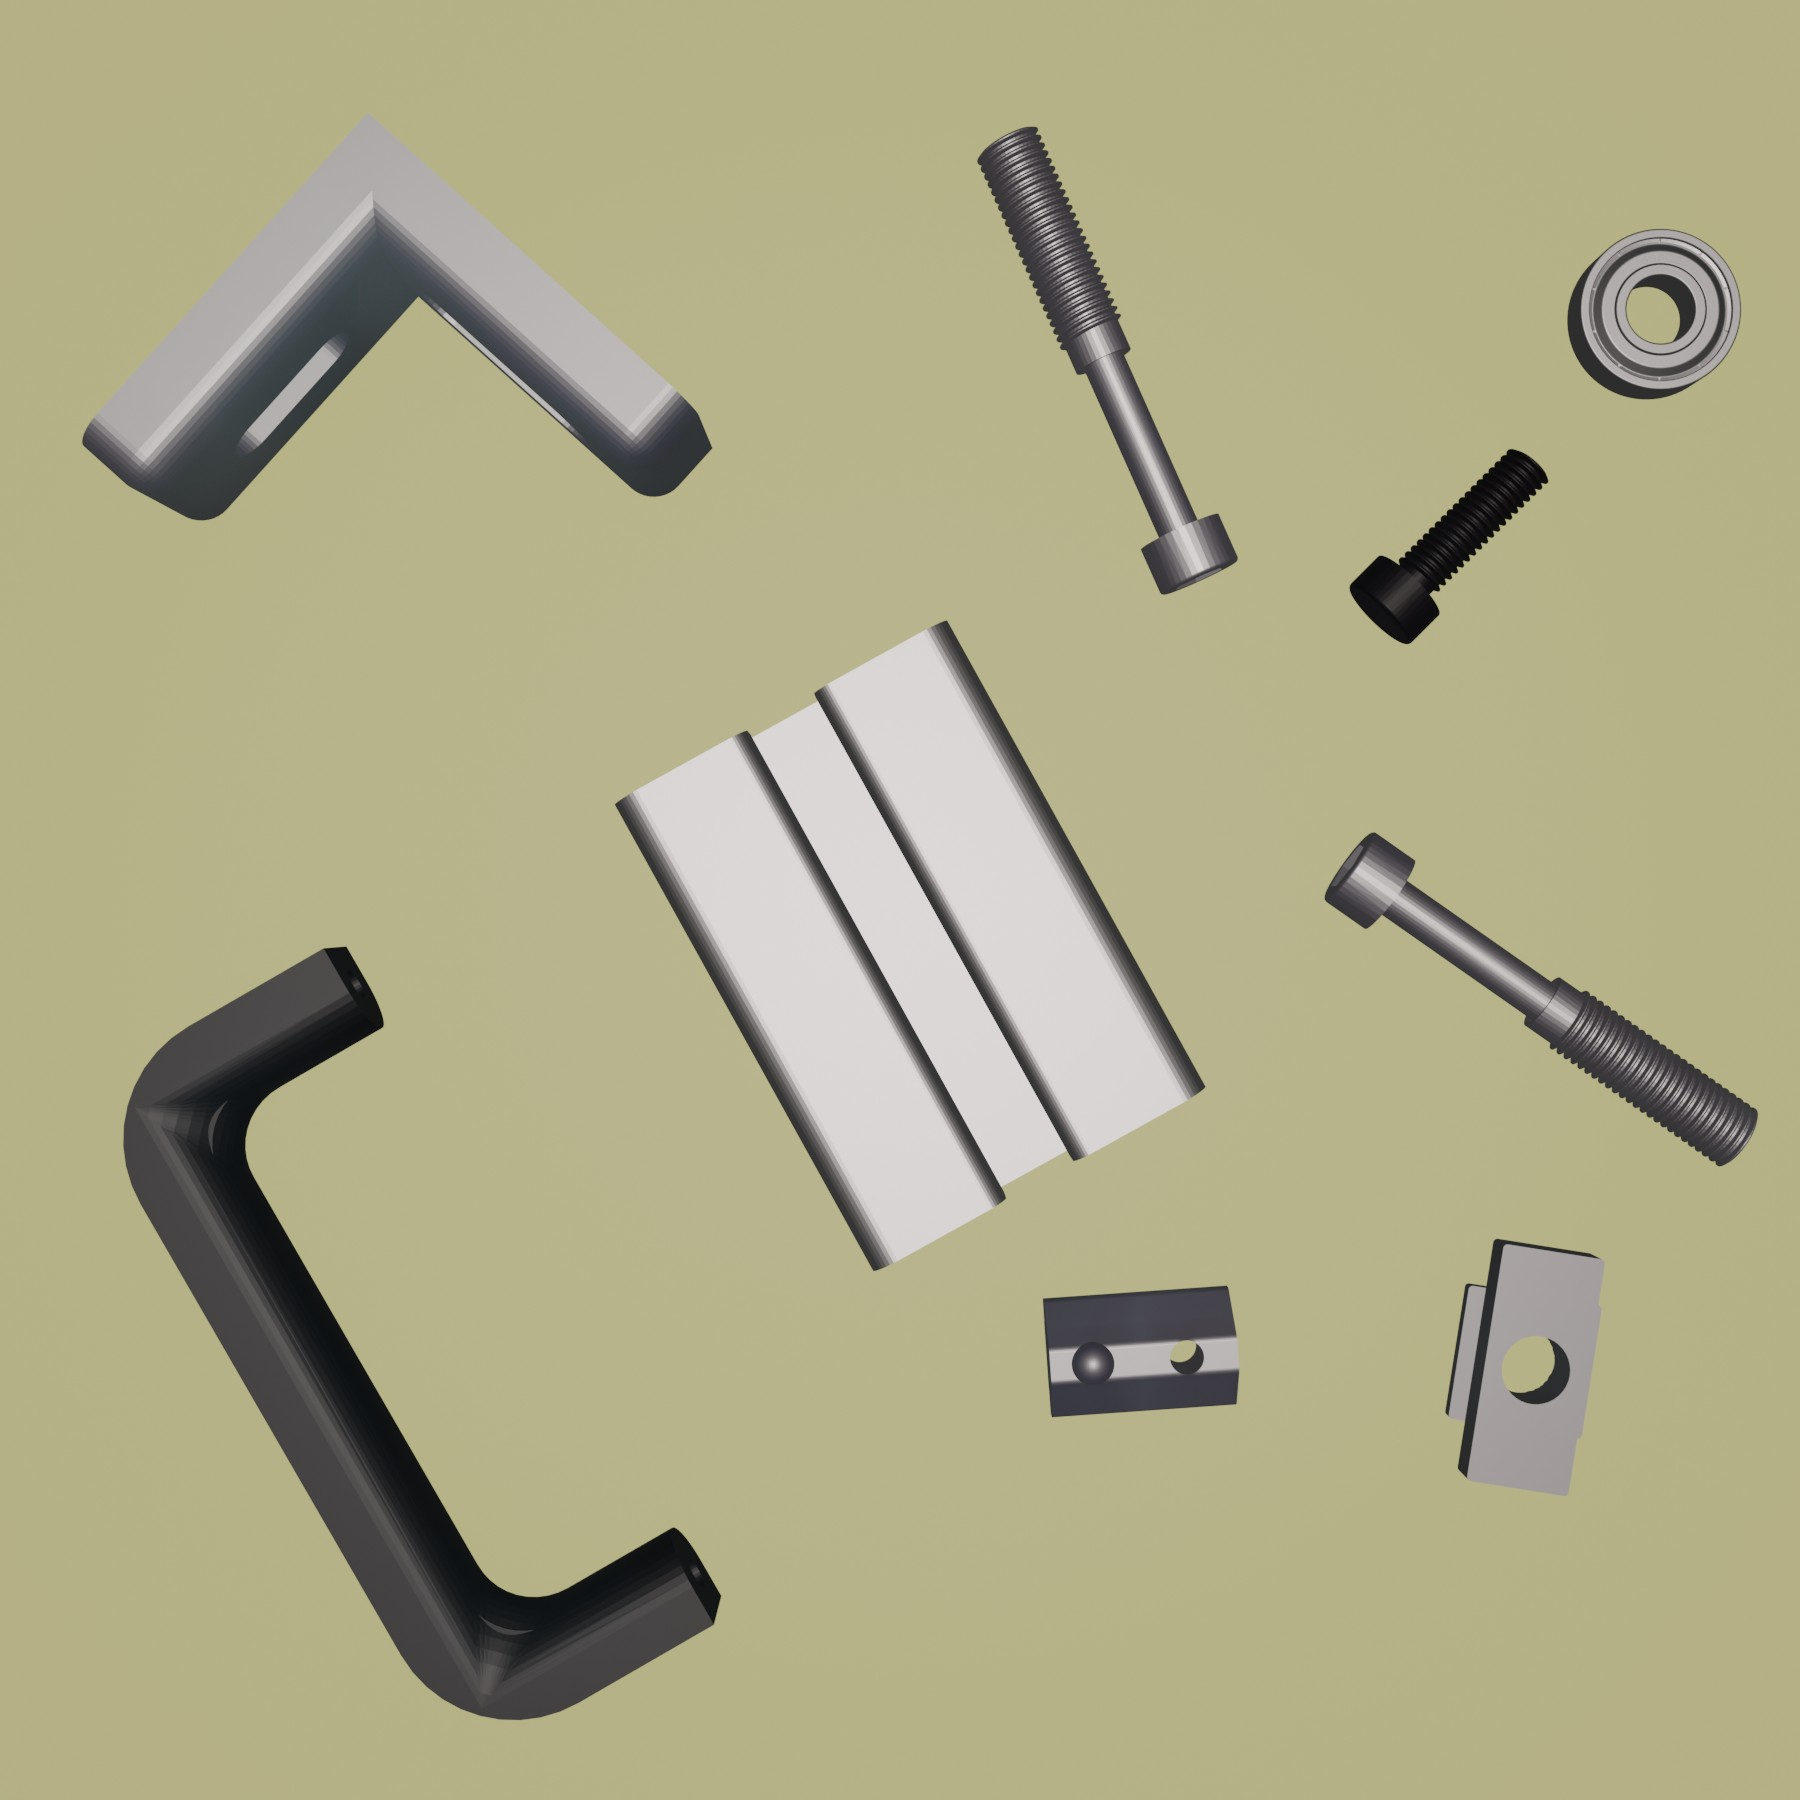Aluminium Extension: (613, 618, 1208, 1274)
Ball Bearing: (1563, 223, 1746, 401)
Multiwinkel: (77, 109, 715, 524)
Pull Handle: (120, 941, 720, 1723)
Shoulder Socket Head Cap Screw: (1320, 827, 1760, 1172), (971, 120, 1240, 597)
Socket Head Cap Screw: (1347, 442, 1553, 649)
T Nut Square: (1442, 1235, 1612, 1498)
T Spring Nut: (1042, 1282, 1241, 1423)
